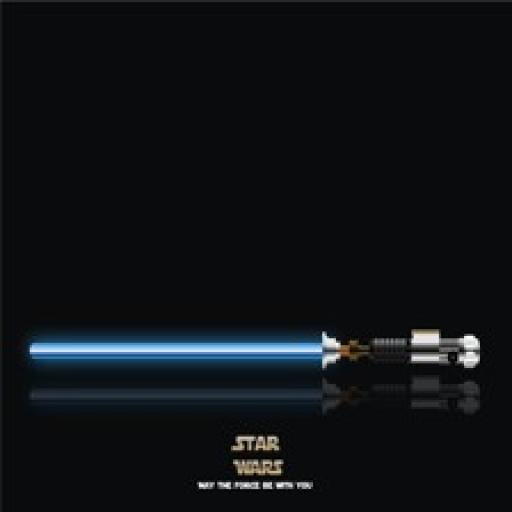lightsaber: (29, 326, 483, 379)
